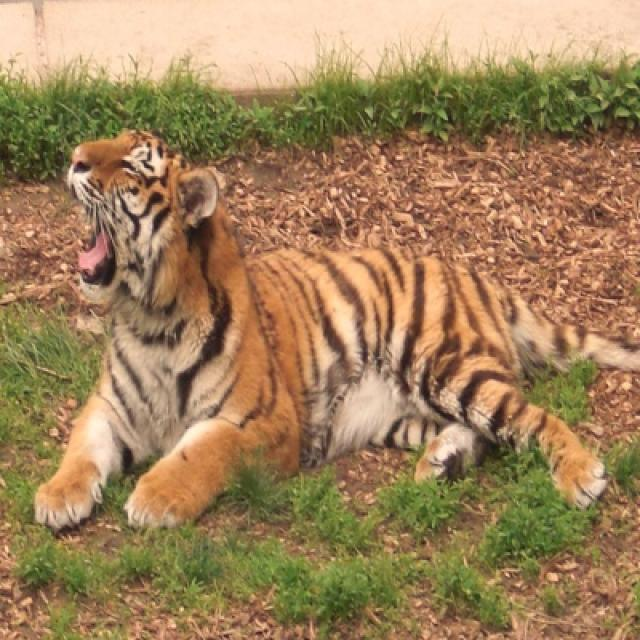Tiger: (34, 131, 638, 528)
